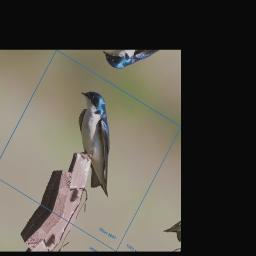Swallow: (45, 85, 148, 199)
